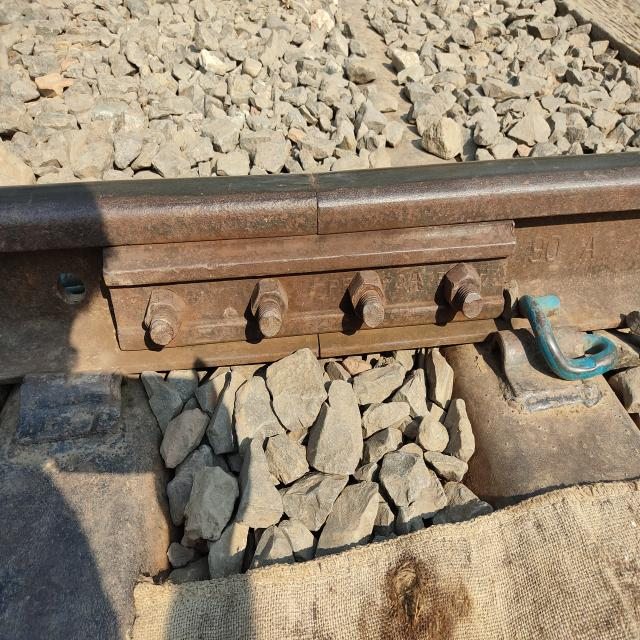Faults: (46, 256, 94, 322)
